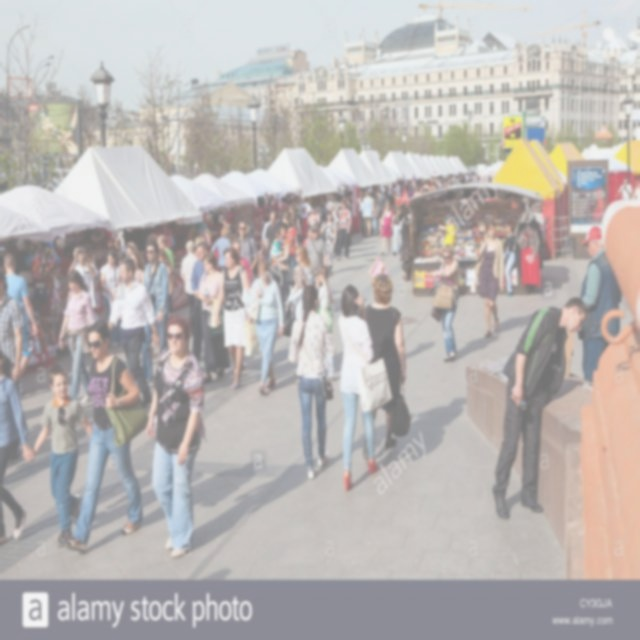pessoa: (490, 295, 590, 520), (62, 318, 152, 556), (144, 312, 208, 560), (24, 362, 94, 548), (287, 282, 338, 480), (337, 282, 379, 493), (362, 272, 408, 462), (108, 255, 162, 410), (576, 224, 624, 384), (0, 347, 37, 548), (212, 245, 255, 391), (244, 260, 286, 395), (58, 269, 97, 404), (0, 264, 25, 462), (394, 389, 466, 456), (3, 252, 39, 380), (141, 238, 171, 388), (196, 250, 228, 386), (428, 244, 460, 364), (473, 218, 505, 338), (315, 263, 337, 383), (31, 105, 79, 154), (190, 240, 209, 362), (99, 248, 122, 348), (67, 245, 100, 313), (286, 264, 308, 365), (270, 222, 292, 314), (415, 169, 493, 193), (13, 264, 40, 322), (180, 240, 200, 316), (282, 212, 298, 306), (304, 224, 330, 279), (226, 233, 254, 283), (262, 210, 282, 280), (237, 219, 259, 282), (157, 248, 175, 318), (333, 199, 352, 262), (360, 179, 414, 201), (210, 223, 233, 274), (290, 192, 316, 236), (186, 217, 212, 260), (502, 220, 516, 298), (315, 188, 352, 215), (398, 200, 412, 258), (360, 190, 376, 238), (380, 202, 394, 256), (437, 213, 458, 248), (390, 196, 402, 253), (268, 230, 284, 272), (330, 200, 342, 256), (287, 194, 303, 236), (157, 234, 176, 268), (129, 249, 146, 285), (288, 204, 302, 247), (260, 210, 272, 260), (375, 188, 387, 238), (315, 203, 327, 250), (367, 255, 389, 279), (88, 250, 100, 288), (358, 189, 367, 237), (386, 184, 398, 219), (617, 177, 633, 200), (222, 214, 236, 238), (306, 206, 322, 227), (326, 201, 340, 223), (302, 265, 316, 287), (302, 224, 314, 247), (366, 192, 376, 218), (125, 241, 138, 259), (115, 248, 126, 266), (244, 222, 258, 236), (632, 180, 640, 200), (278, 196, 288, 212), (345, 197, 353, 215), (98, 252, 107, 267), (145, 232, 157, 240)
